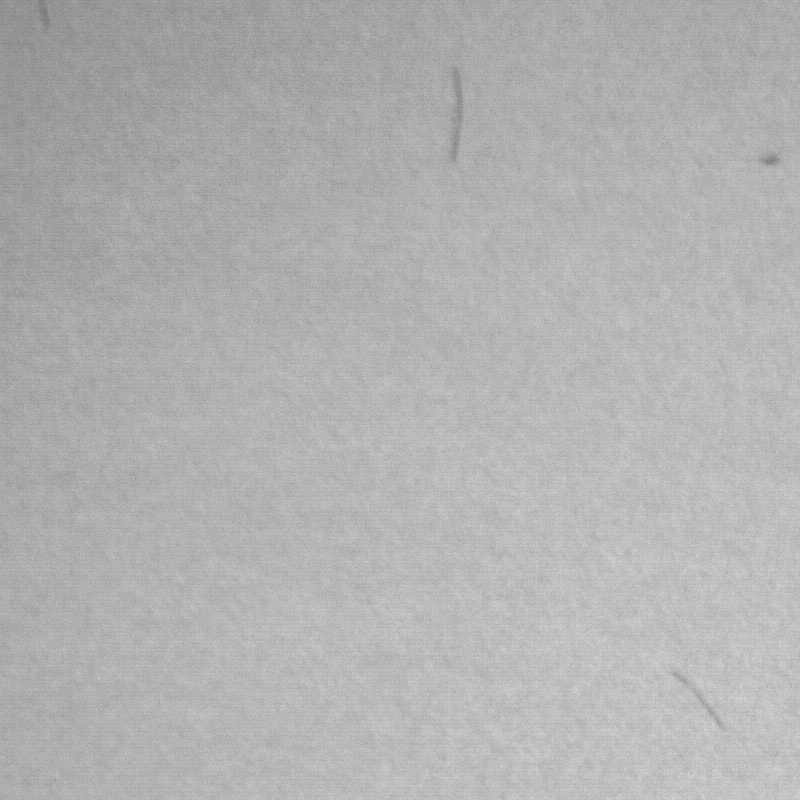defect: (671, 673, 730, 738), (449, 68, 461, 168), (37, 1, 58, 33), (764, 149, 784, 169)
